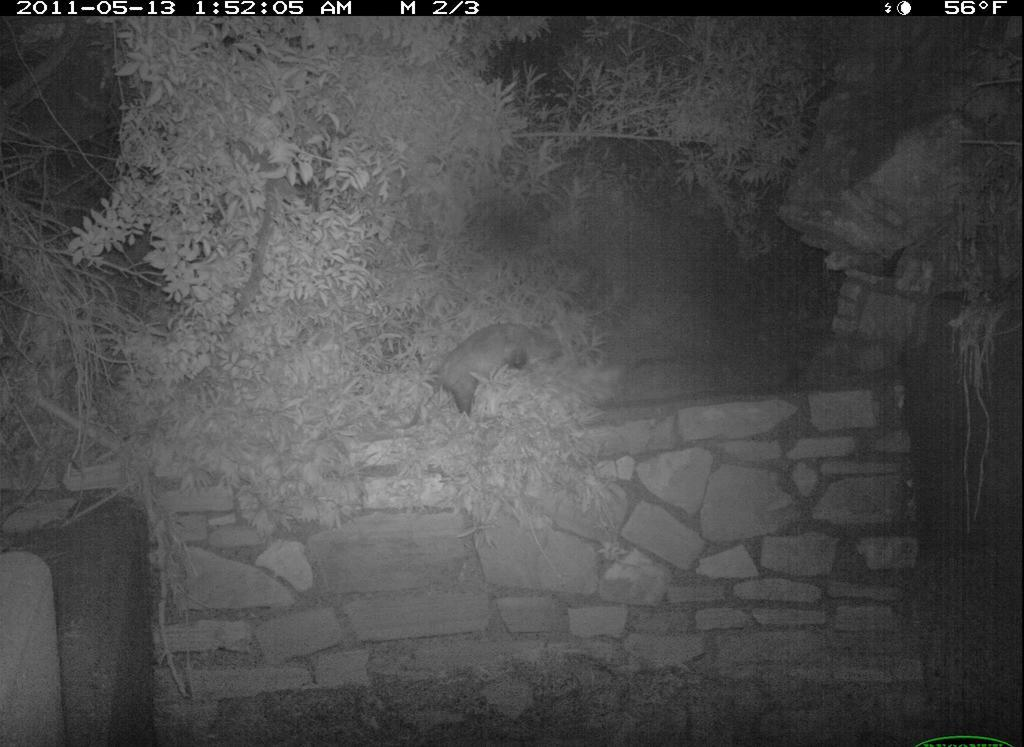opossum: (424, 318, 566, 428)
